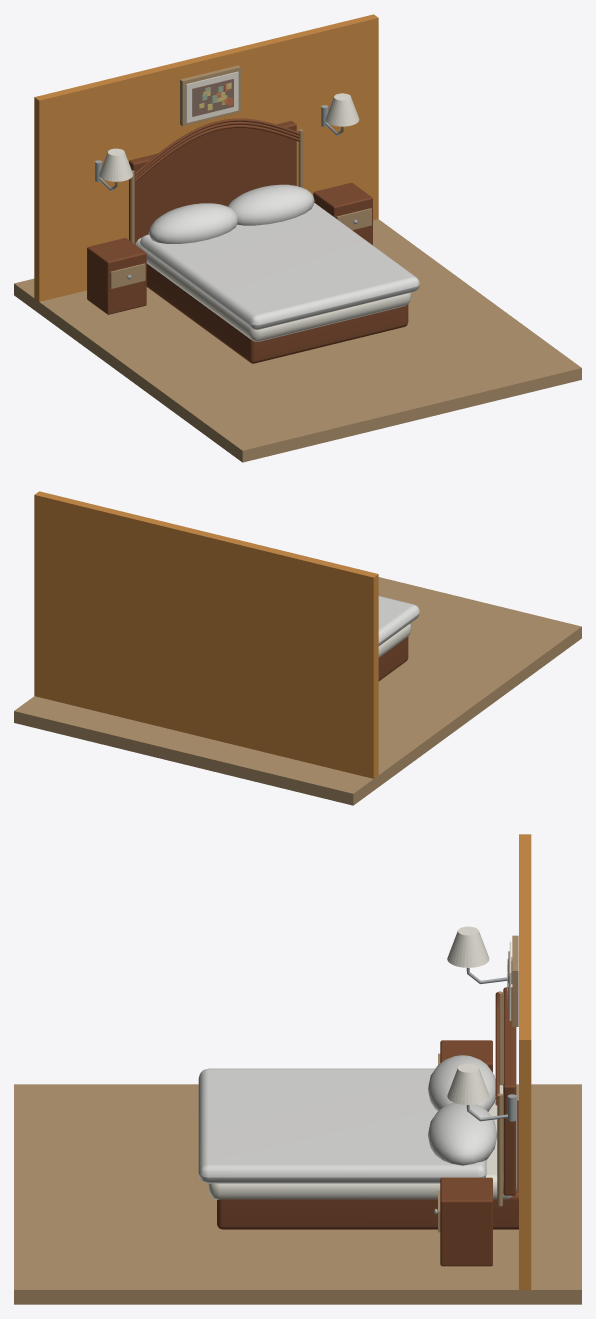
The model's file is scene-1-scenerig.glb.
3 views of the same model, one above another, from view 1: azimuth 30°, elevation 25°; view 2: azimuth 150°, elevation 25°; view 3: azimuth 270°, elevation 25° (orthographic). The views are drawn at different scales.
Visible parts, largest first — view 1: floor, orange bedroom wall, white quilt, headboard rectangular body, bed base, nightstand, white mattress, arched wood headboard, large white pillows, large white pillows.001, nightstand.001, picture mat (+8 smaller); view 2: orange bedroom wall, floor, white quilt, bed base; view 3: floor, white quilt, bed base, orange bedroom wall, nightstand.001, white mattress, large white pillows.001, headboard rectangular body, large white pillows, ivory lampshade, ivory lampshade.001, nightstand (+2 smaller).
Boxes of the visible parts, bbox=[...] form: floor: bbox=[14, 219, 581, 462]; orange bedroom wall: bbox=[34, 14, 378, 301]; white quilt: bbox=[140, 203, 419, 329]; headboard rectangular body: bbox=[129, 121, 296, 244]; bed base: bbox=[146, 263, 408, 363]; nightstand: bbox=[87, 238, 146, 314]; white mattress: bbox=[135, 237, 411, 341]; arched wood headboard: bbox=[141, 128, 293, 177]; large white pillows: bbox=[148, 203, 237, 243]; large white pillows.001: bbox=[227, 184, 314, 225]; nightstand.001: bbox=[313, 182, 372, 245]; picture mat: bbox=[186, 71, 238, 122]; orange bedroom wall: bbox=[34, 491, 378, 778]; floor: bbox=[14, 577, 581, 805]; white quilt: bbox=[378, 596, 419, 645]; bed base: bbox=[378, 637, 408, 680]; floor: bbox=[14, 1084, 581, 1304]; white quilt: bbox=[198, 1068, 486, 1183]; bed base: bbox=[217, 1100, 518, 1229]; orange bedroom wall: bbox=[519, 834, 531, 1289]; nightstand.001: bbox=[440, 1177, 492, 1266]; white mattress: bbox=[208, 1085, 516, 1199]; large white pillows.001: bbox=[428, 1102, 497, 1165]; headboard rectangular body: bbox=[503, 987, 516, 1195]; large white pillows: bbox=[428, 1055, 495, 1111]; ivory lampshade: bbox=[447, 926, 489, 967]; ivory lampshade.001: bbox=[447, 1063, 489, 1104]; nightstand: bbox=[440, 1040, 492, 1072].
Size of the model in its own units: 6 by 3.6 by 7.
